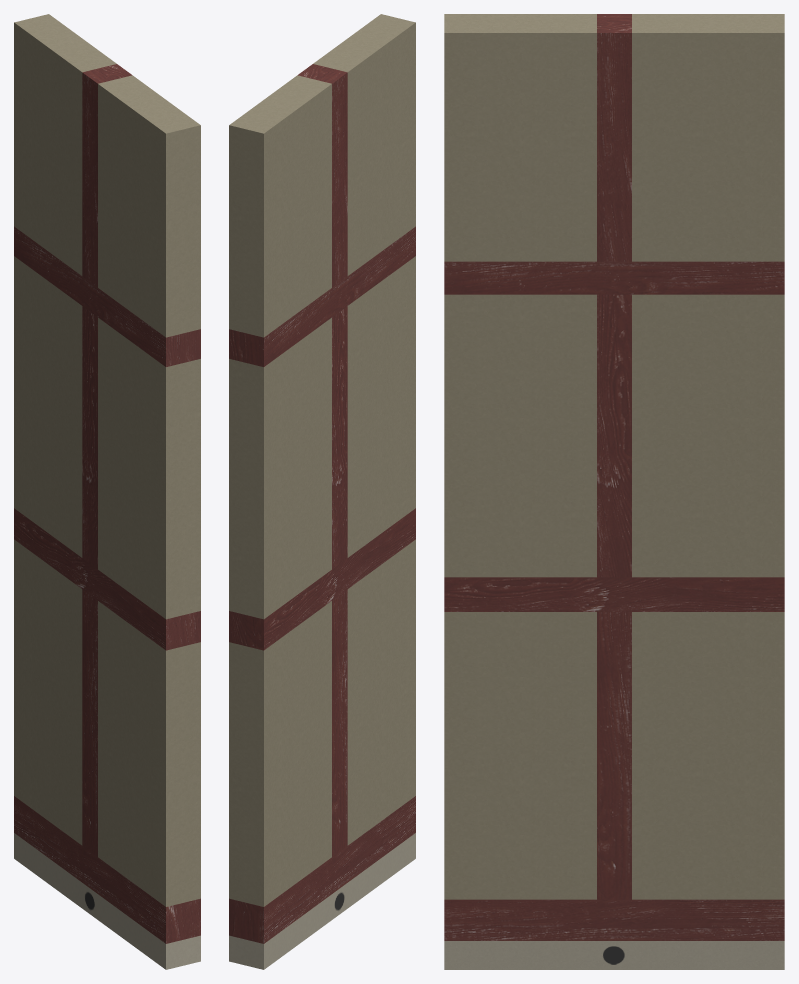
File: SM_Sun_Pal_Wall_B.fbx
3 renders of one model, left to right at view 1: azimuth 30°, elevation 25°; view 2: azimuth 150°, elevation 25°; view 3: azimuth 270°, elevation 25°, orthographic. The views are drawn at different scales.
Parts seen in each view (by area): view 1: SM_Sun_Pal_Wall_B; view 2: SM_Sun_Pal_Wall_B; view 3: SM_Sun_Pal_Wall_B.
Part boxes in pixels (x1,y1,x2,y2): SM_Sun_Pal_Wall_B: [14, 14, 200, 969]; SM_Sun_Pal_Wall_B: [229, 14, 415, 969]; SM_Sun_Pal_Wall_B: [444, 14, 784, 969].
Size of the model in its own units: 20 by 460 by 151.
